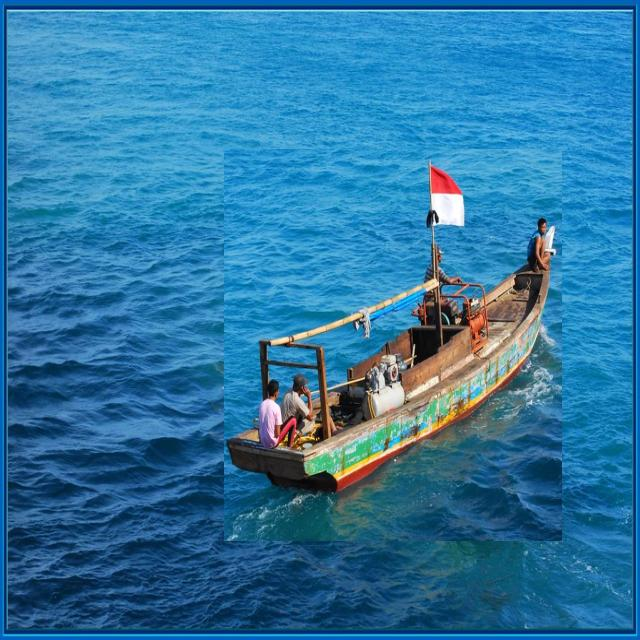Fishing Boat: (224, 149, 562, 541)
